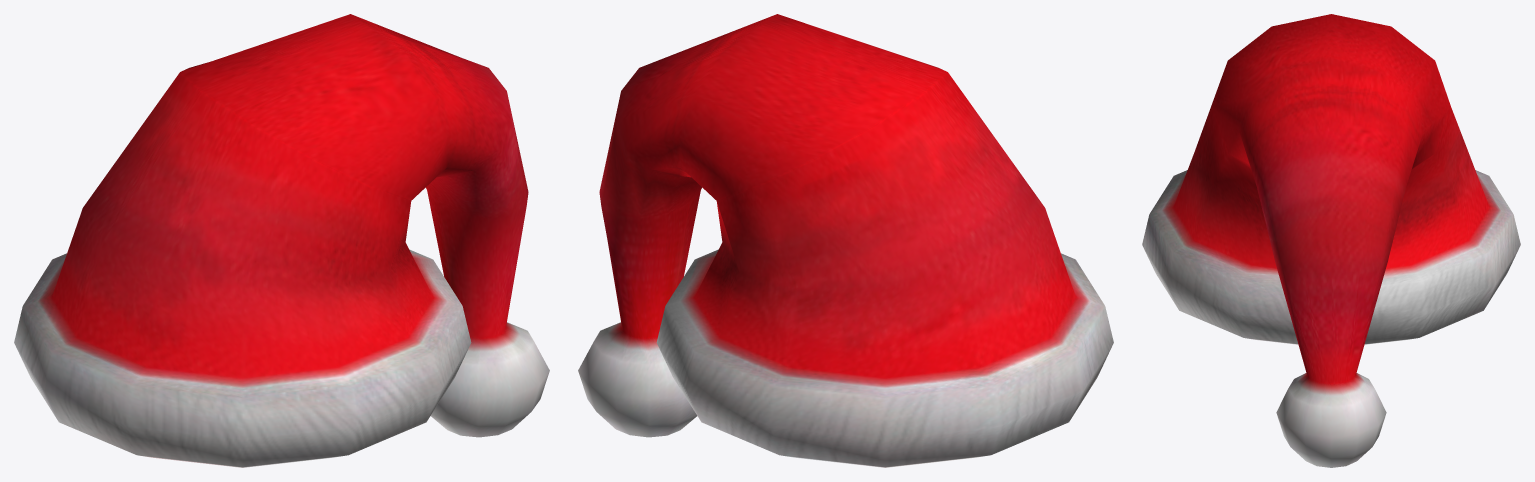
The model's file is ChristmasHat.FBX.
3 views of the same model, side by side, from view 1: azimuth 30°, elevation 25°; view 2: azimuth 150°, elevation 25°; view 3: azimuth 270°, elevation 25° (orthographic). The views are drawn at different scales.
Visible parts, largest first — view 1: Tube001; view 2: Tube001; view 3: Tube001.
Part boxes in pixels (x1=…): Tube001: x1=14, y1=14, x2=549, y2=467; Tube001: x1=578, y1=14, x2=1113, y2=467; Tube001: x1=1142, y1=14, x2=1520, y2=467.
Bounding box in the file's own units: 184 × 154 × 146.
